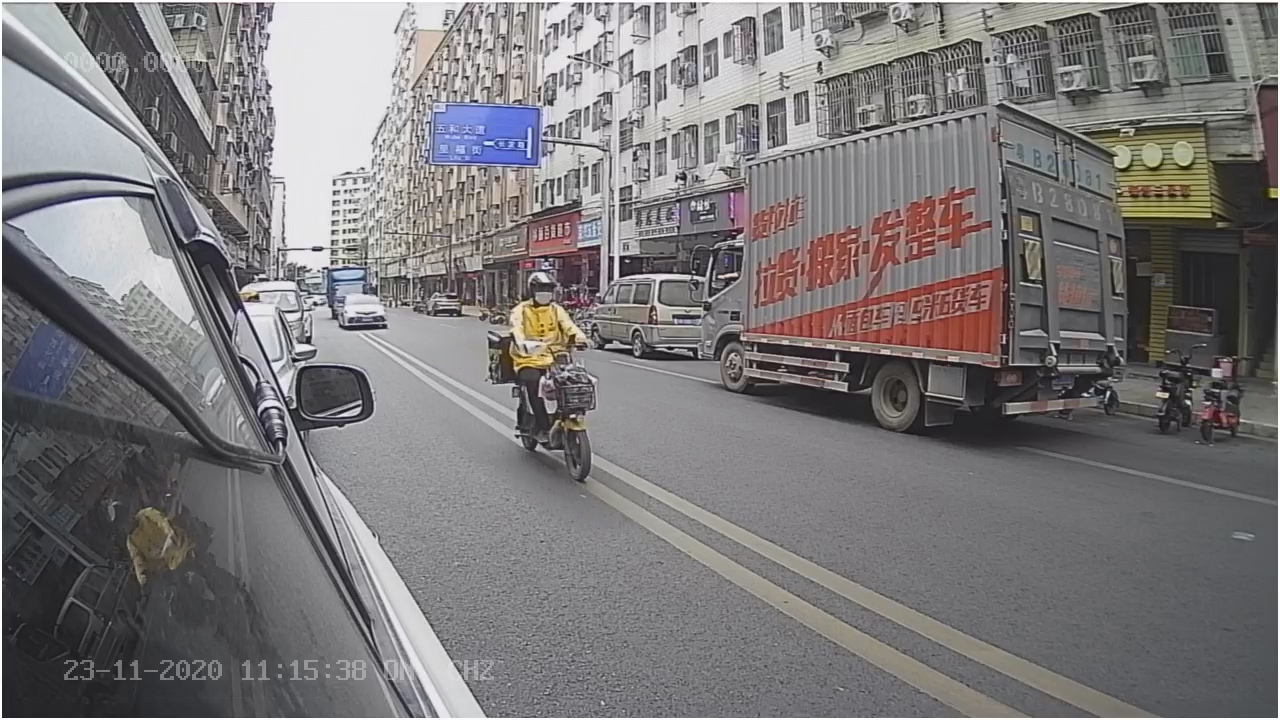person: (502, 267, 604, 359)
